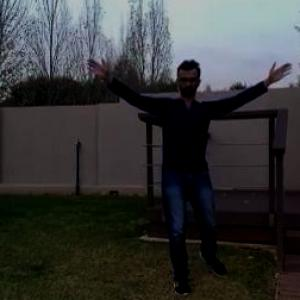takeoff: (87, 66, 292, 296)
